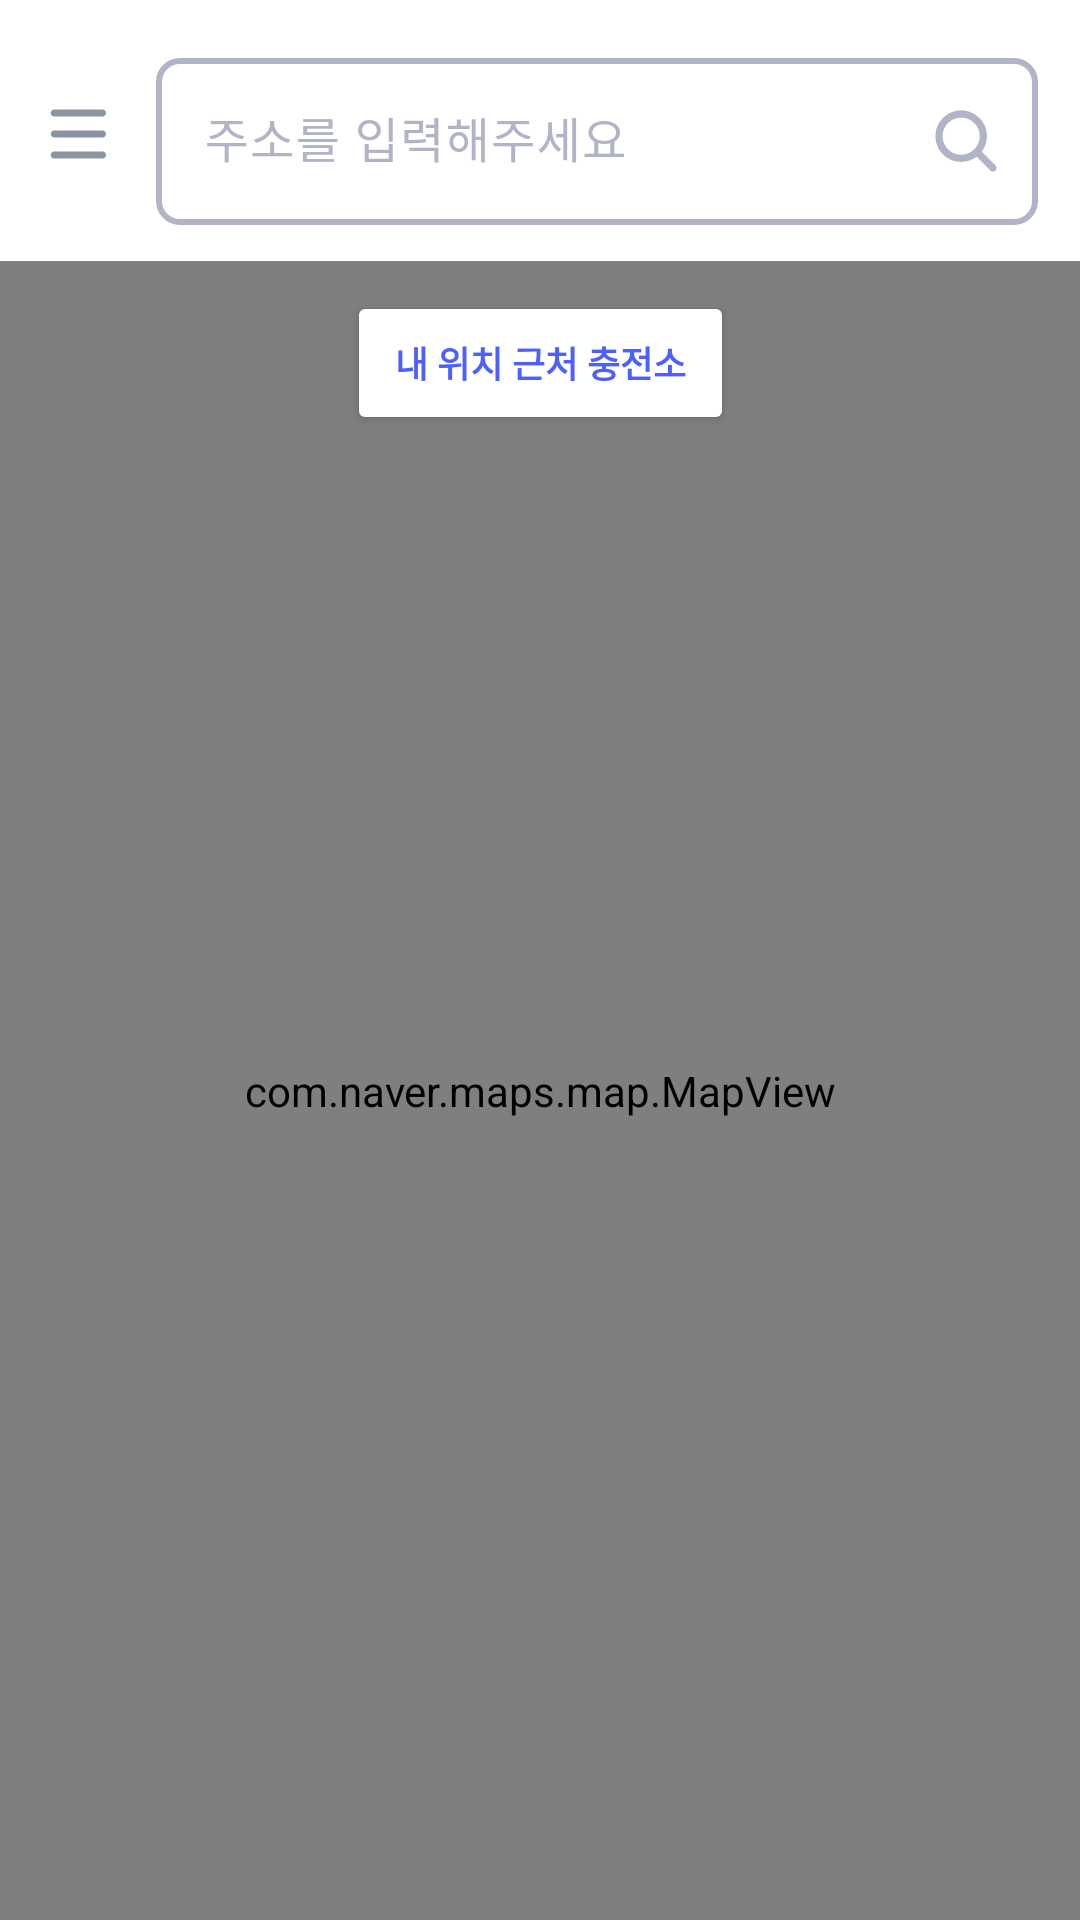

Icons on this 1080×1920 Android screen, each with its box as (x1, y1, x2, y2):
메뉴 버튼: (50, 109, 106, 159)
